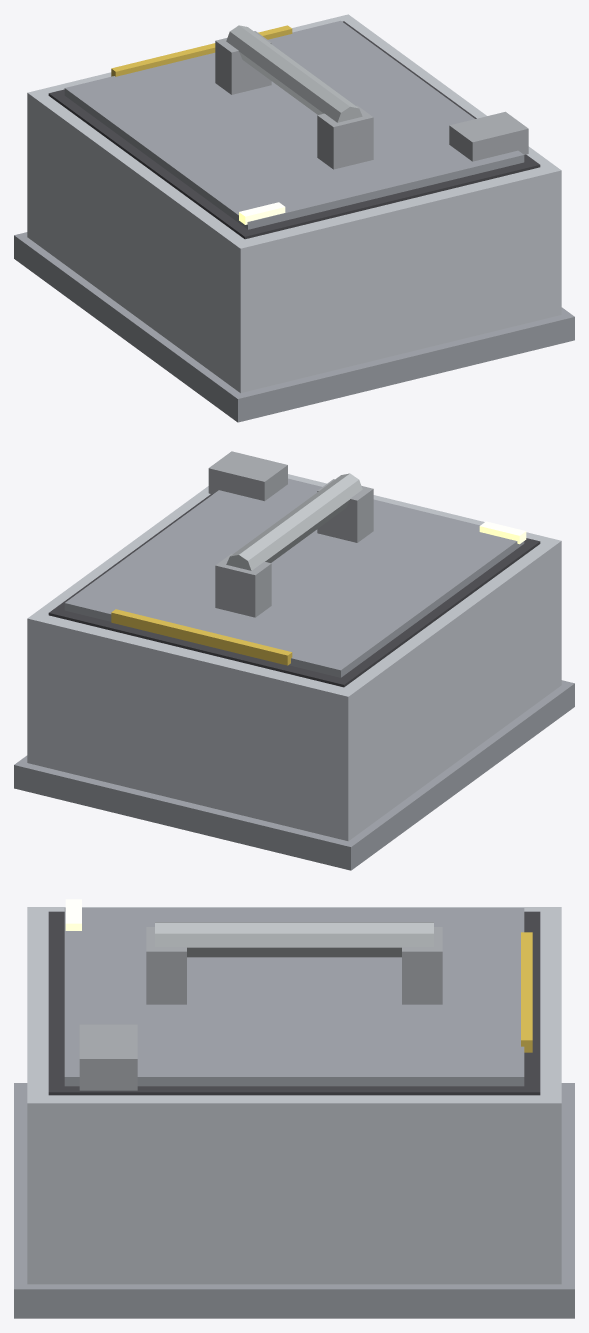
Rendered from prop_locker.glb.
The picture shows the model from 3 angles, top to bottom: view 1: azimuth 30°, elevation 25°; view 2: azimuth 150°, elevation 25°; view 3: azimuth 270°, elevation 25°; orthographic projection. The views are drawn at different scales.
Visible parts, largest first — view 1: prop_locker; view 2: prop_locker; view 3: prop_locker.
Boxes of the visible parts, left/top/right/bottom form: prop_locker: left=14, top=14, right=574, bottom=422; prop_locker: left=14, top=451, right=574, bottom=870; prop_locker: left=14, top=899, right=574, bottom=1318.
Bounding box in the file's own units: 0.42 × 0.278 × 0.483.
